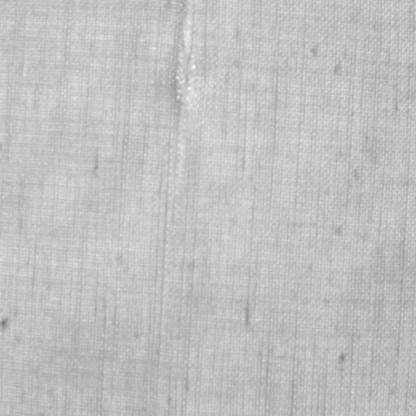thread error: (164, 0, 204, 183)
